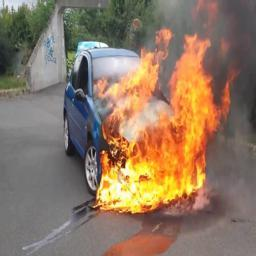fire: (93, 0, 241, 214)
